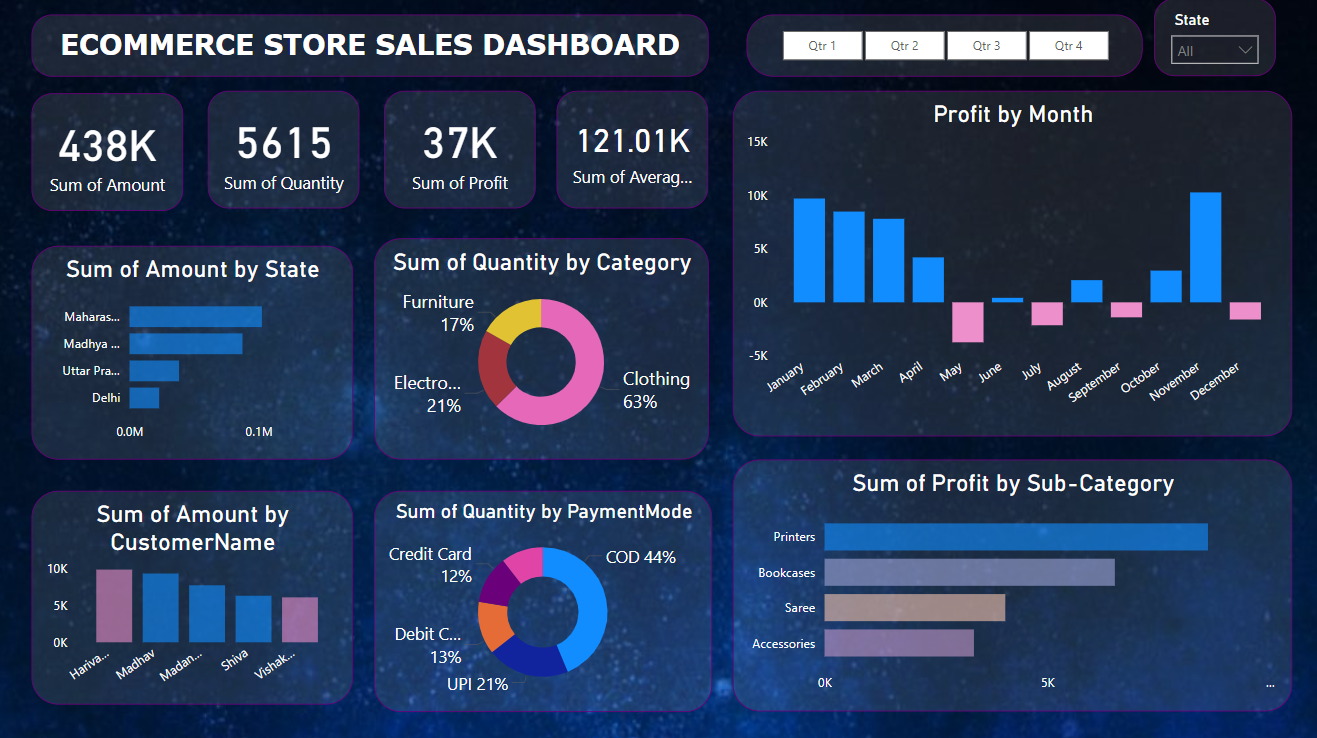

Layout of this report page (visuals, bound fields, positions):
{"tool":"powerbi","page":{"name":"Page 1","canvas":[1280,720],"ordinal":0},"visuals":[{"type":"textbox","box":[36.7,16.7,653.3,60],"z":0},{"type":"columnChart","title":" Profit by Month","fields":{"Y":["Details.Profit"],"Category":["Orders.Order Date.Variation.Date Hierarchy.Month"]},"box":[713.3,90,540,333.3],"z":1000},{"type":"barChart","fields":{"Category":["Details.Sub-Category"],"Y":["Details.Profit"]},"box":[713.3,446.7,540,243.3],"z":2000},{"type":"donutChart","fields":{"Category":["Details.Category"],"Y":["Details.Quantity"]},"box":[366.7,233.3,323.3,213.3],"z":3000},{"type":"donutChart","fields":{"Category":["Details.PaymentMode"],"Y":["Details.Quantity"]},"box":[366.7,476.7,326.7,213.3],"z":4000},{"type":"card","fields":{"Values":["Details.Amount"]},"box":[36.7,93.3,146.7,113.3],"z":5000},{"type":"card","fields":{"Values":["Details.Quantity"]},"box":[206.7,90,146.7,113.3],"z":6000},{"type":"card","fields":{"Values":["Details.Profit"]},"box":[376.7,90,146.7,113.3],"z":7000},{"type":"card","fields":{"Values":["Details.Average order value"]},"box":[543.3,90,146.7,113.3],"z":8000},{"type":"barChart","fields":{"Category":["Orders.State"],"Y":["Details.Amount"]},"box":[36.7,240,310,206.7],"z":9000},{"type":"columnChart","fields":{"Category":["Orders.CustomerName"],"Y":["Details.Amount"]},"box":[36.7,476.7,310,206.7],"z":10000},{"type":"slicer","fields":{"Values":["Orders.Order Date.Variation.Date Hierarchy.Quarter"]},"box":[726.7,16.7,382.5,60],"z":11000},{"type":"slicer","fields":{"Values":["Orders.State"]},"box":[1119.2,1.7,117.5,75],"z":11001}]}

Visuals, with their boxes in screenshot pixels (x1, y1, x2, y2), scaled from the page's 1280x720 canvas onto the 1317x738 screenshot:
textbox: 38,17,710,79
" Profit by Month" columnChart: 734,92,1290,434
barChart - Details.Sub-Category x Details.Profit: 734,458,1290,707
donutChart - Details.Category x Details.Quantity: 377,239,710,458
donutChart - Details.PaymentMode x Details.Quantity: 377,489,713,707
card - Details.Amount: 38,96,189,212
card - Details.Quantity: 213,92,364,208
card - Details.Profit: 388,92,539,208
card - Details.Average order value: 559,92,710,208
barChart - Orders.State x Details.Amount: 38,246,357,458
columnChart - Orders.CustomerName x Details.Amount: 38,489,357,700
slicer - Orders.Order Date.Variation.Date Hierarchy.Quarter: 748,17,1141,79
slicer - Orders.State: 1152,2,1272,79
